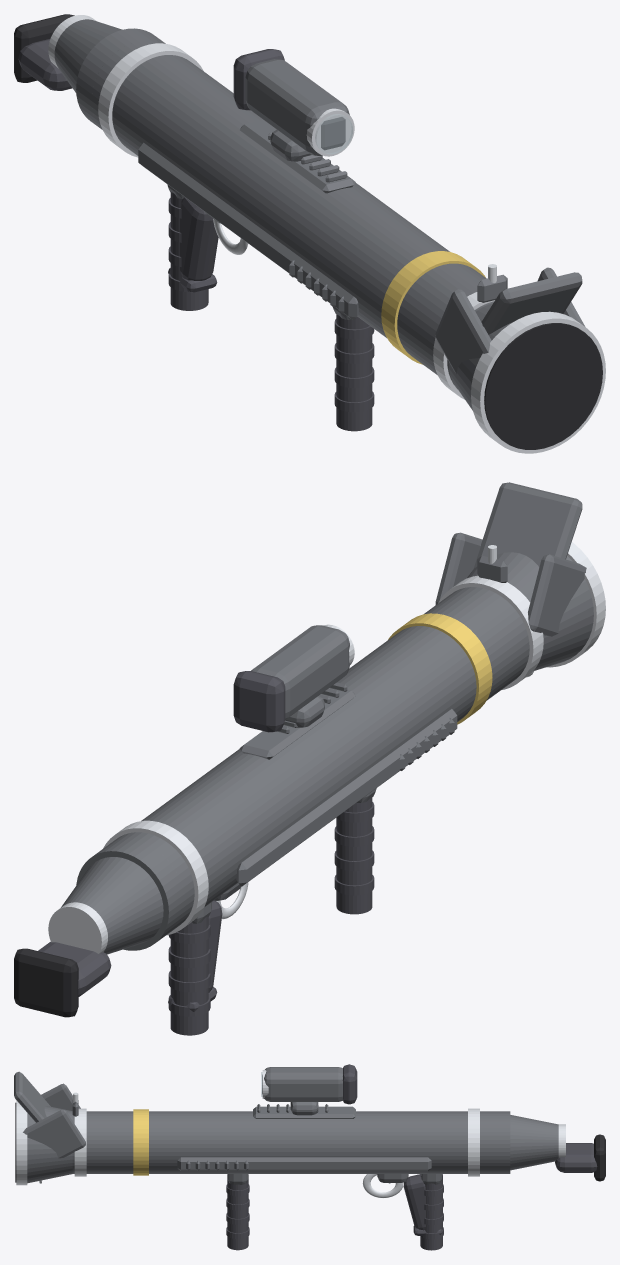
Rendered from wep_rocket_launcher.glb.
The picture shows the model from 3 angles, top to bottom: view 1: azimuth 30°, elevation 25°; view 2: azimuth 150°, elevation 25°; view 3: azimuth 270°, elevation 25°; orthographic projection. The views are drawn at different scales.
Visible parts, largest first — view 1: wep_rocket_launcher_tube, wep_rocket_launcher_muzzle_bore, wep_rocket_launcher_optic_housing, wep_rocket_launcher_side_rail_l, wep_rocket_launcher_muzzle_rim, wep_rocket_launcher_blast_plate, wep_rocket_launcher_blast_wing_l, wep_rocket_launcher_grip_front_sleeve, wep_rocket_launcher_pistol_grip, wep_rocket_launcher_stripe_band, wep_rocket_launcher_tube_band_rear, wep_rocket_launcher_venturi (+11 smaller); view 2: wep_rocket_launcher_tube, wep_rocket_launcher_blast_plate, wep_rocket_launcher_venturi, wep_rocket_launcher_side_rail_l, wep_rocket_launcher_optic_housing, wep_rocket_launcher_shoulder_face, wep_rocket_launcher_muzzle_bell, wep_rocket_launcher_blast_wing_l, wep_rocket_launcher_optic_eyecup, wep_rocket_launcher_grip_rear_sleeve, wep_rocket_launcher_grip_front_sleeve, wep_rocket_launcher_stripe_band (+8 smaller); view 3: wep_rocket_launcher_tube, wep_rocket_launcher_side_rail_r, wep_rocket_launcher_optic_housing, wep_rocket_launcher_venturi, wep_rocket_launcher_blast_wing_r, wep_rocket_launcher_muzzle_bell, wep_rocket_launcher_stripe_band, wep_rocket_launcher_shoulder_pad, wep_rocket_launcher_top_rail_base, wep_rocket_launcher_blast_plate, wep_rocket_launcher_grip_front_sleeve, wep_rocket_launcher_muzzle_rim (+10 smaller).
Part boxes in pixels (x1,y1,x2,y2): wep_rocket_launcher_tube: (76,28,494,389); wep_rocket_launcher_muzzle_bore: (484,323,602,449); wep_rocket_launcher_optic_housing: (245,59,349,155); wep_rocket_launcher_side_rail_l: (138,142,358,320); wep_rocket_launcher_muzzle_rim: (471,311,605,453); wep_rocket_launcher_blast_plate: (481,272,582,334); wep_rocket_launcher_blast_wing_l: (435,289,491,374); wep_rocket_launcher_grip_front_sleeve: (336,314,372,431); wep_rocket_launcher_pistol_grip: (180,197,218,280); wep_rocket_launcher_stripe_band: (381,251,485,364); wep_rocket_launcher_tube_band_rear: (98,43,203,157); wep_rocket_launcher_venturi: (54,19,124,92); wep_rocket_launcher_tube: (76,587,529,950); wep_rocket_launcher_blast_plate: (473,482,582,569); wep_rocket_launcher_venturi: (61,840,183,954); wep_rocket_launcher_side_rail_l: (236,709,457,886); wep_rocket_launcher_optic_housing: (251,625,349,719); wep_rocket_launcher_shoulder_face: (14,948,78,1017); wep_rocket_launcher_muzzle_bell: (467,552,593,671); wep_rocket_launcher_blast_wing_l: (528,554,586,636); wep_rocket_launcher_optic_eyecup: (233,671,285,732); wep_rocket_launcher_grip_rear_sleeve: (170,916,208,1035); wep_rocket_launcher_grip_front_sleeve: (336,798,372,914); wep_rocket_launcher_stripe_band: (388,613,492,724); wep_rocket_launcher_tube: (72,1111,510,1173); wep_rocket_launcher_side_rail_r: (177,1157,431,1171); wep_rocket_launcher_optic_housing: (262,1067,342,1101); wep_rocket_launcher_venturi: (510,1115,558,1170); wep_rocket_launcher_blast_wing_r: (23,1109,85,1158); wep_rocket_launcher_muzzle_bell: (27,1106,72,1183); wep_rocket_launcher_stripe_band: (133,1109,148,1175); wep_rocket_launcher_shoulder_pad: (555,1143,597,1172); wep_rocket_launcher_top_rail_base: (253,1106,355,1118); wep_rocket_launcher_blast_plate: (14,1071,50,1122); wep_rocket_launcher_grip_front_sleeve: (227,1174,248,1250); wep_rocket_launcher_muzzle_rim: (16,1100,27,1185).
Bounding box in the file's own units: 0.141 × 0.323 × 0.978.
